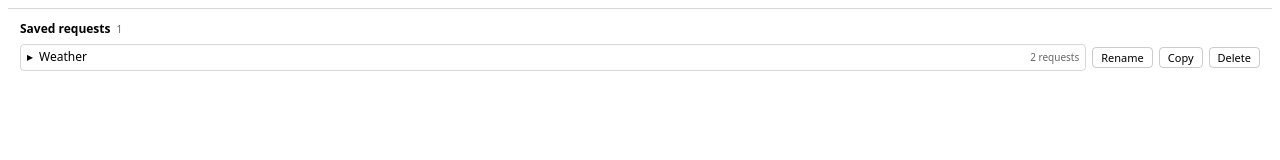
Scenario: CollectionTree delete, rename and copy › reports a failed rename and keeps the row name
Expected: the text "Weather" is shown, [39,48,87,65]
Step 1. Click the button "Rename" → {"x": 1123, "y": 57}, box [1092,46,1153,68]
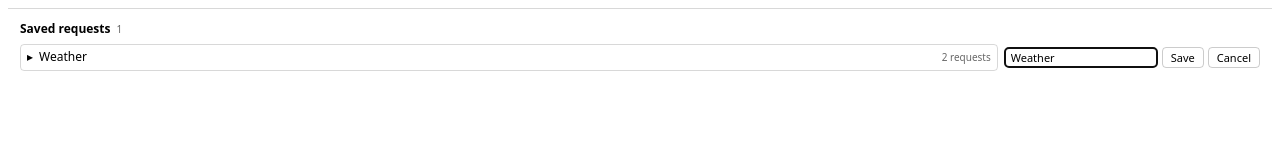
Step 2. Replace the text in the field named "Rename" with "Forecast" → {"x": 1081, "y": 57}, box [1004,46,1158,68]
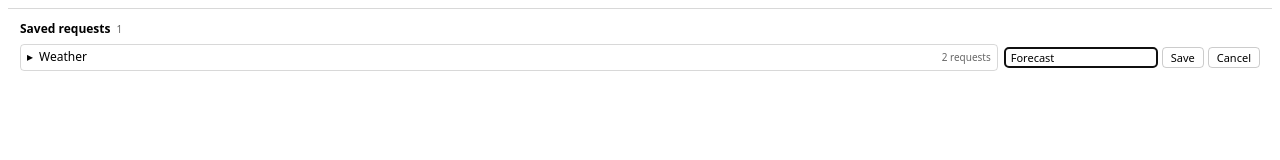
Step 3. Click the button "Save" → {"x": 1183, "y": 57}, box [1162,46,1204,68]
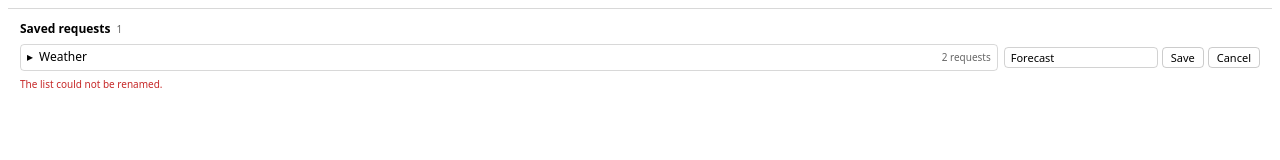
Expected: the text "Weather" is shown, [39,48,87,65]
Expected: the text "The list could not be renamed." is shown, [20,77,162,91]
